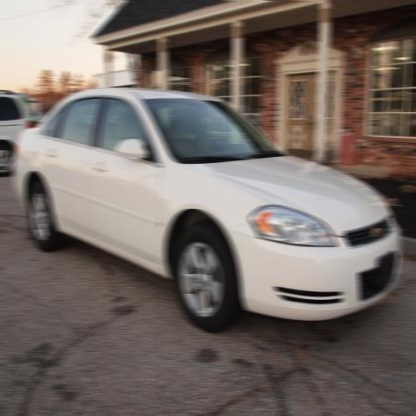Vehicle: (13, 87, 402, 334)
